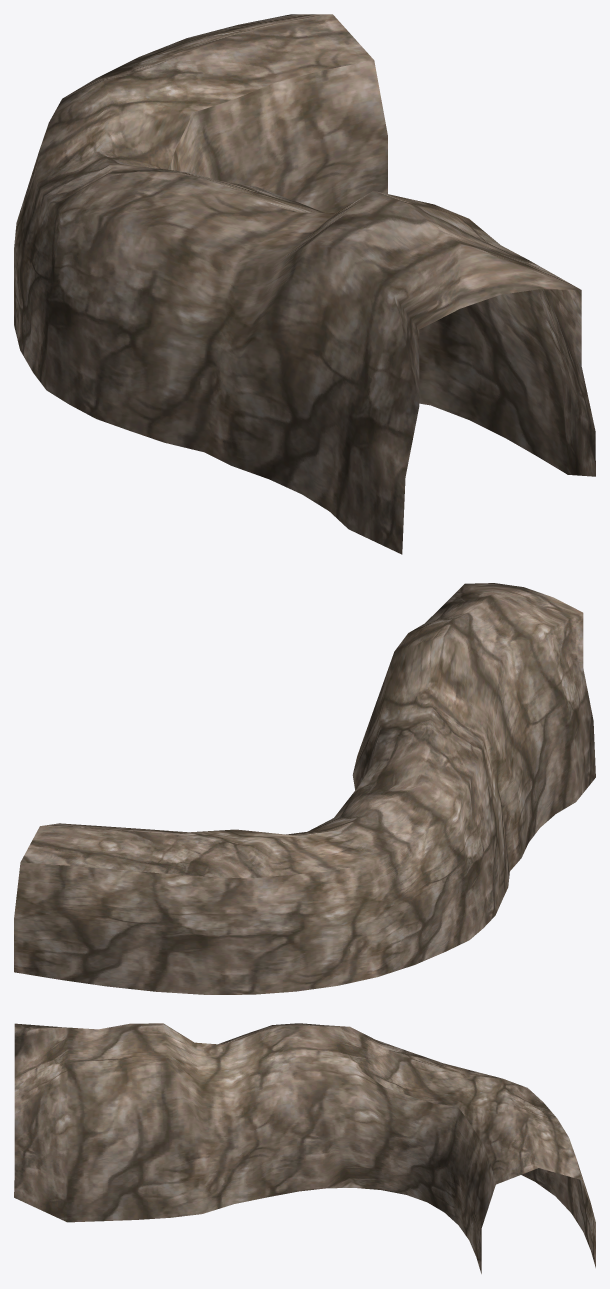
File: EKH_BARRELROOM_PS_JA1_EXIT_CAVE02928.fbx
3 views of the same model, one above another, from view 1: azimuth 30°, elevation 25°; view 2: azimuth 150°, elevation 25°; view 3: azimuth 270°, elevation 25° (orthographic). The views are drawn at different scales.
Parts seen in each view (by area): view 1: EKH_BARRELROOM_PS_JA1_EXIT_CAVE02928; view 2: EKH_BARRELROOM_PS_JA1_EXIT_CAVE02928; view 3: EKH_BARRELROOM_PS_JA1_EXIT_CAVE02928.
Part boxes in pixels (bbox=[...]): EKH_BARRELROOM_PS_JA1_EXIT_CAVE02928: bbox=[14, 14, 595, 554]; EKH_BARRELROOM_PS_JA1_EXIT_CAVE02928: bbox=[14, 583, 595, 994]; EKH_BARRELROOM_PS_JA1_EXIT_CAVE02928: bbox=[14, 1023, 595, 1273].
Bounding box in the file's own units: 104397 × 60672 × 186403.
Materials: 1 (1 with a texture image).
